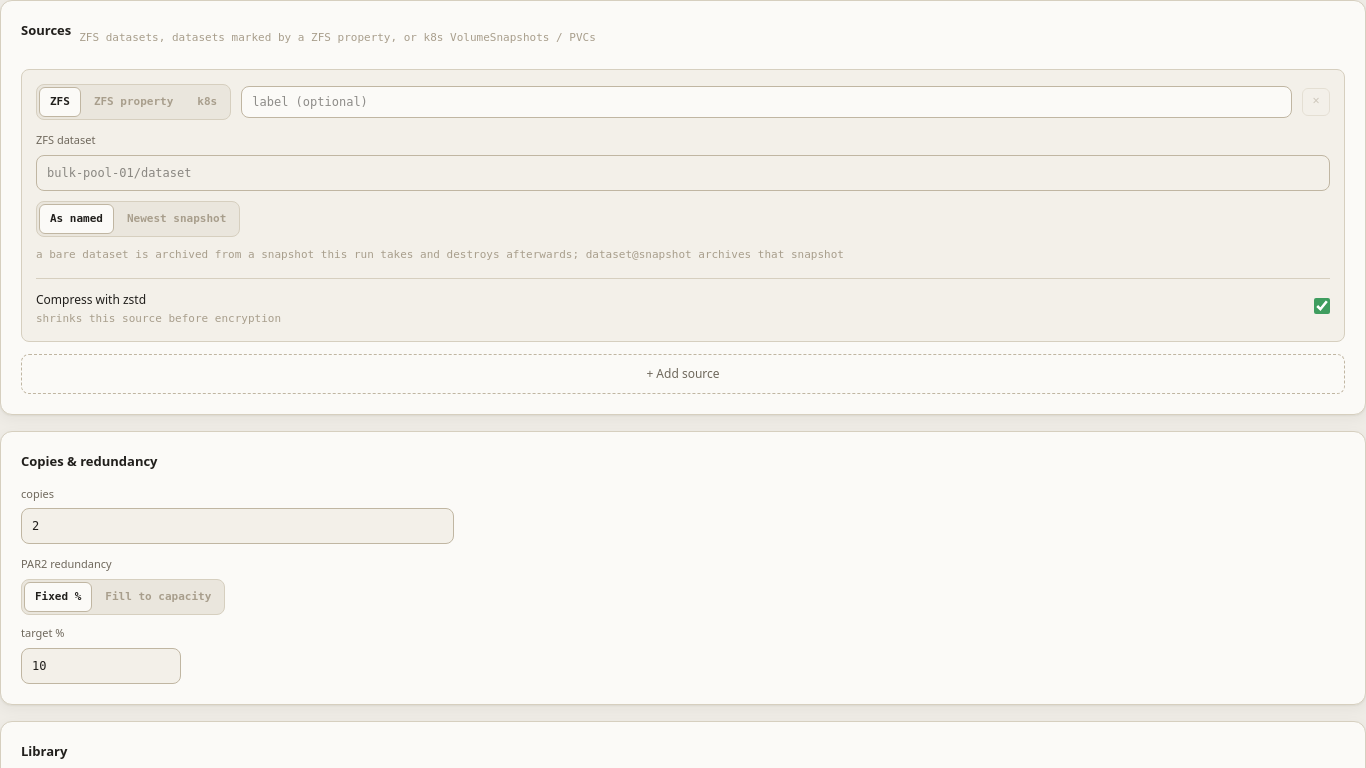
it: ConfigForm › toggles between fixed and fill-to-capacity redundancy modes
expect the number field labelled "target %" is shown: met, box [21,648,181,684]
Click the button "Fill to capacity" at point(158, 597), box [94,582,222,612]
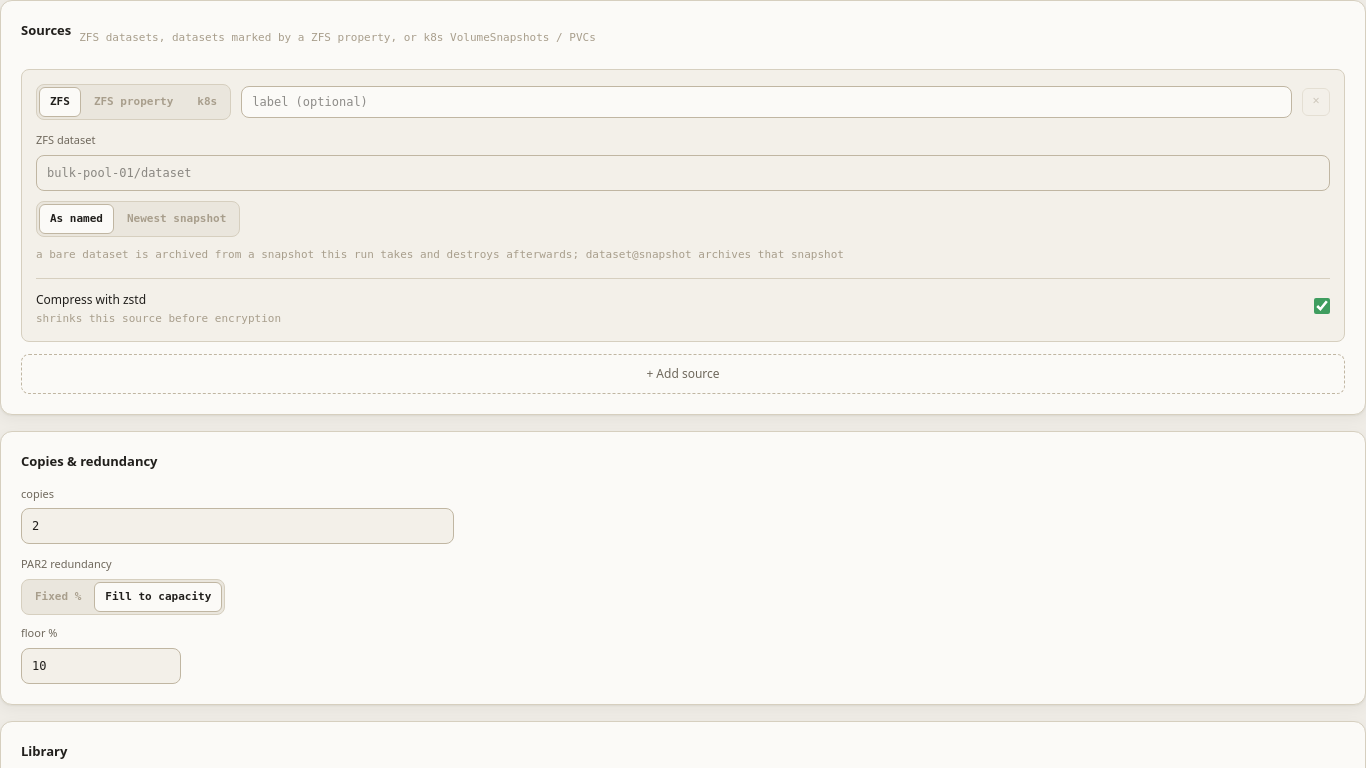
expect the number field labelled "floor %" is shown: met, box [21,648,181,684]
expect the label labelled "target %" is gone: met
